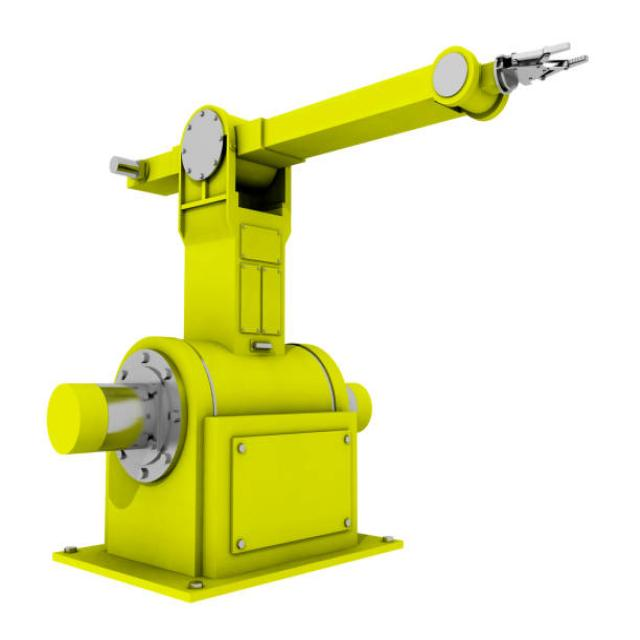Robotic-arm: (32, 23, 603, 605)
